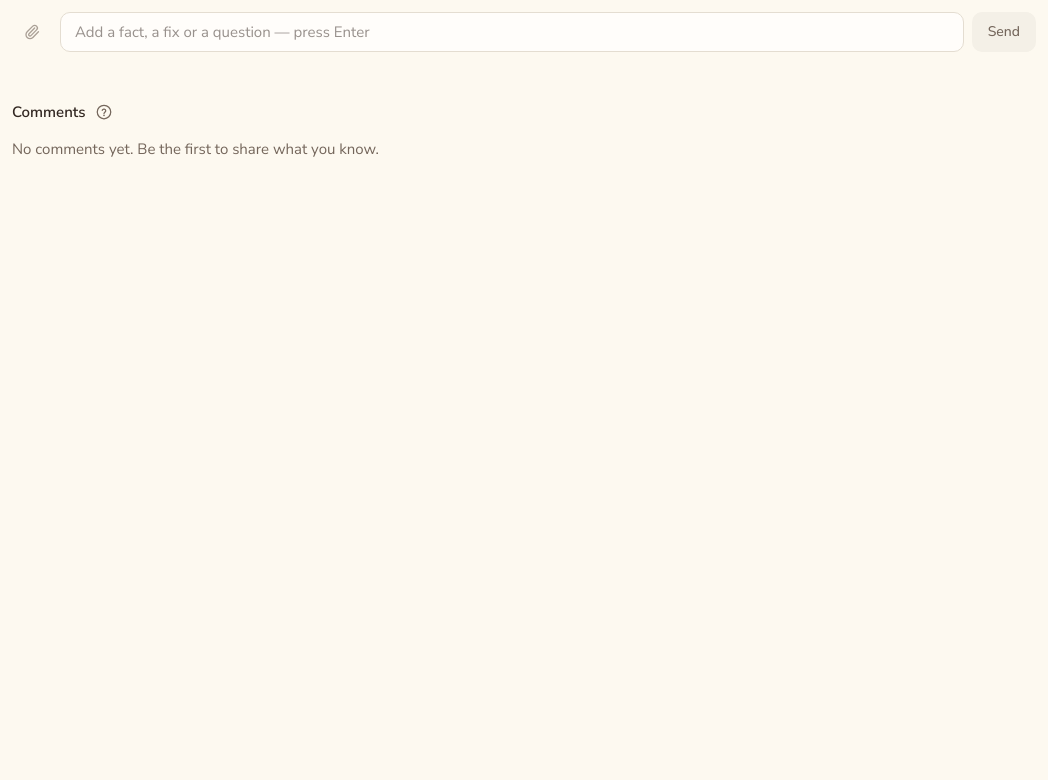
it: CommunitySection — How comments work › closes on a click outside it
Click the button named "How comments work" at (104, 112), box [92, 100, 116, 124]
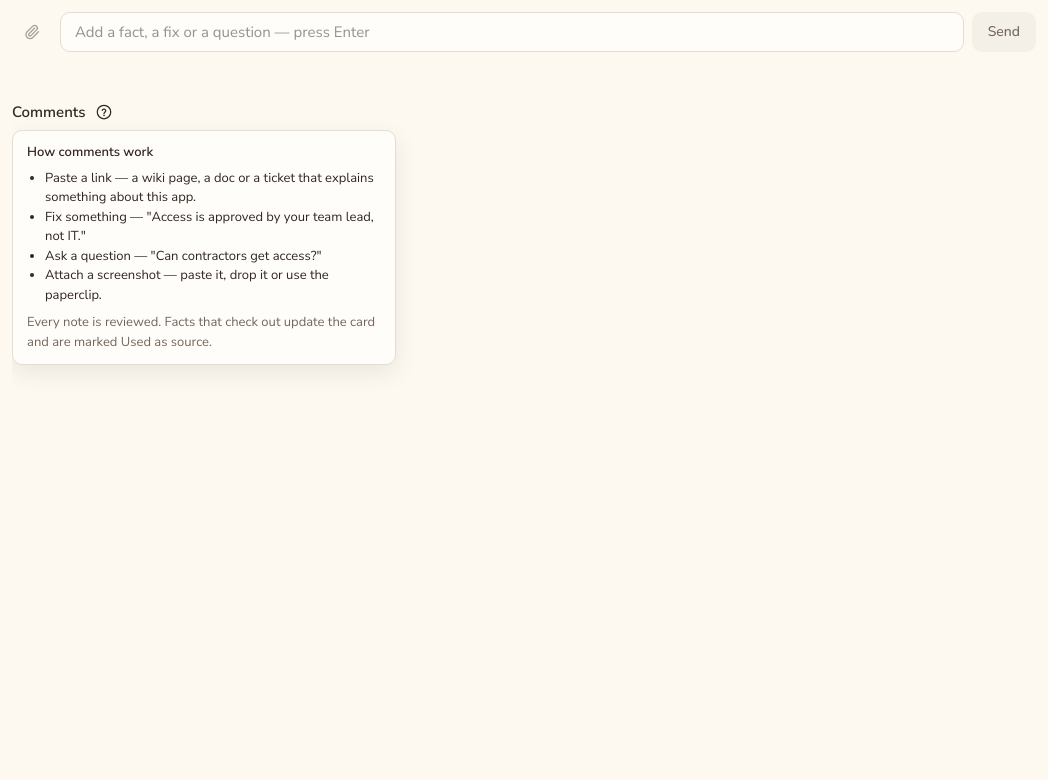
Press the mouse on the element that starts with "Send" at (524, 396), box [12, 12, 1036, 779]
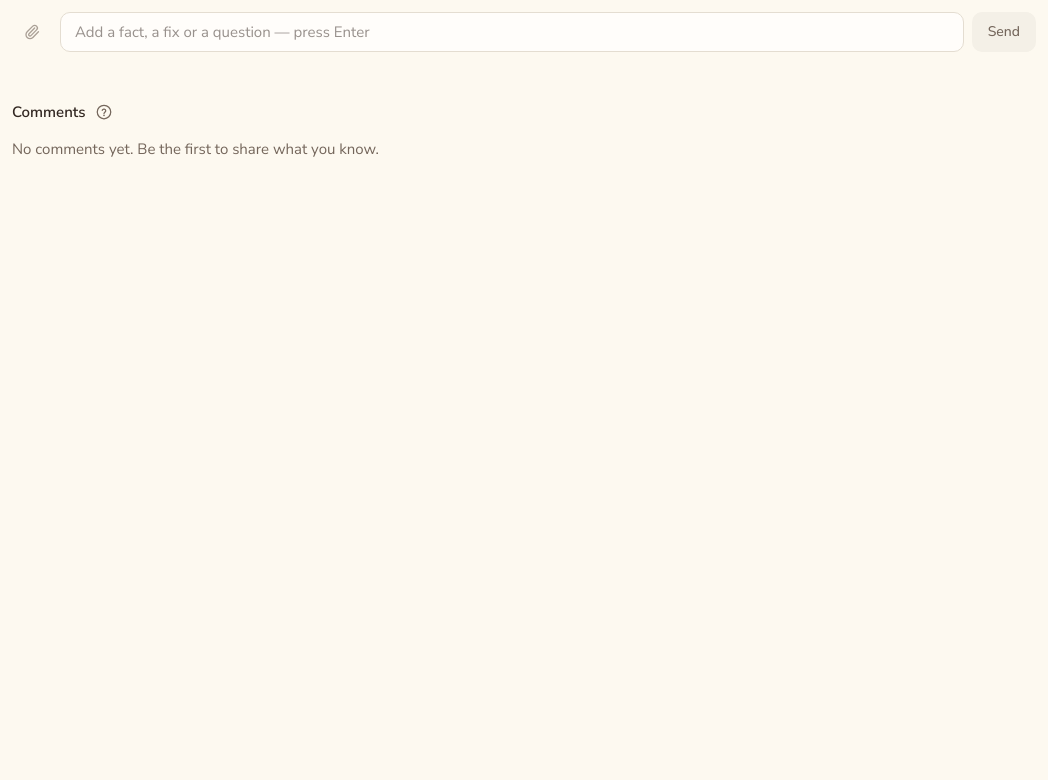
Now the button named "How comments work" is collapsed, box [92, 100, 116, 124]
